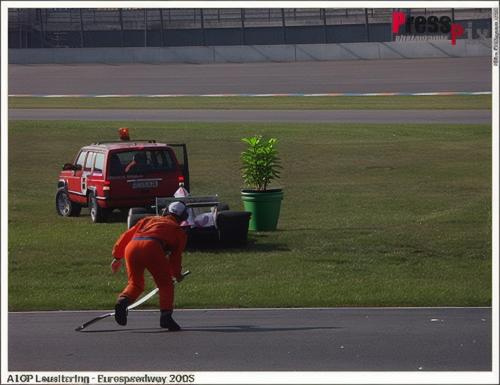car: (56, 128, 190, 221), (128, 189, 249, 247)
person: (112, 201, 189, 330)
person/foot: (115, 300, 127, 326), (159, 317, 180, 330)
person/hand: (111, 258, 123, 273), (173, 274, 183, 283)
person/head: (166, 202, 187, 223)
pottedplant: (242, 136, 281, 231)
